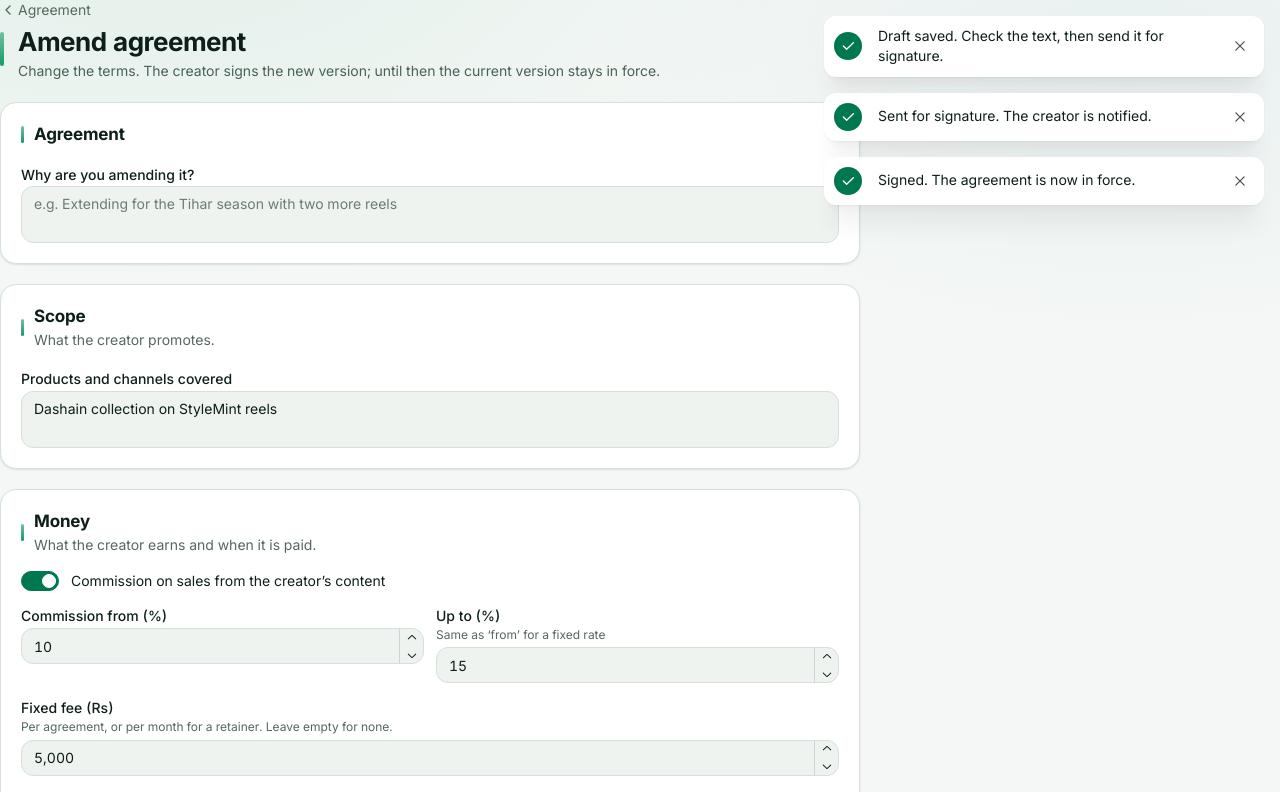
amend and terminate › amends only with a reason and after confirming; the amendment is a new version
The image size is (1280, 792).
Replace the text in the field labelled "Fixed fee (Rs)" with "8000" at (430, 758), box x1=21 y1=740 x2=839 y2=776
(page scrolled)
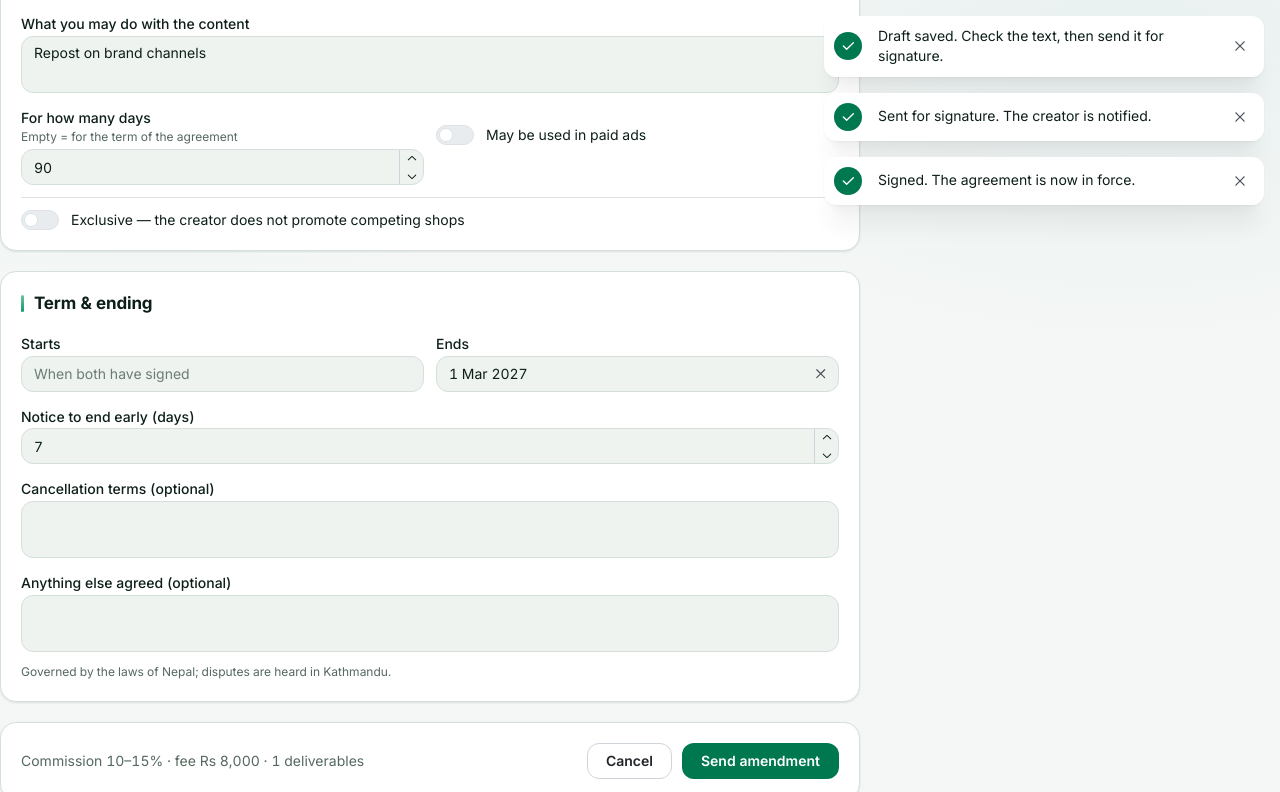
Click the button "Send amendment".
click(760, 761)  # box x1=682 y1=743 x2=839 y2=779
(page scrolled)
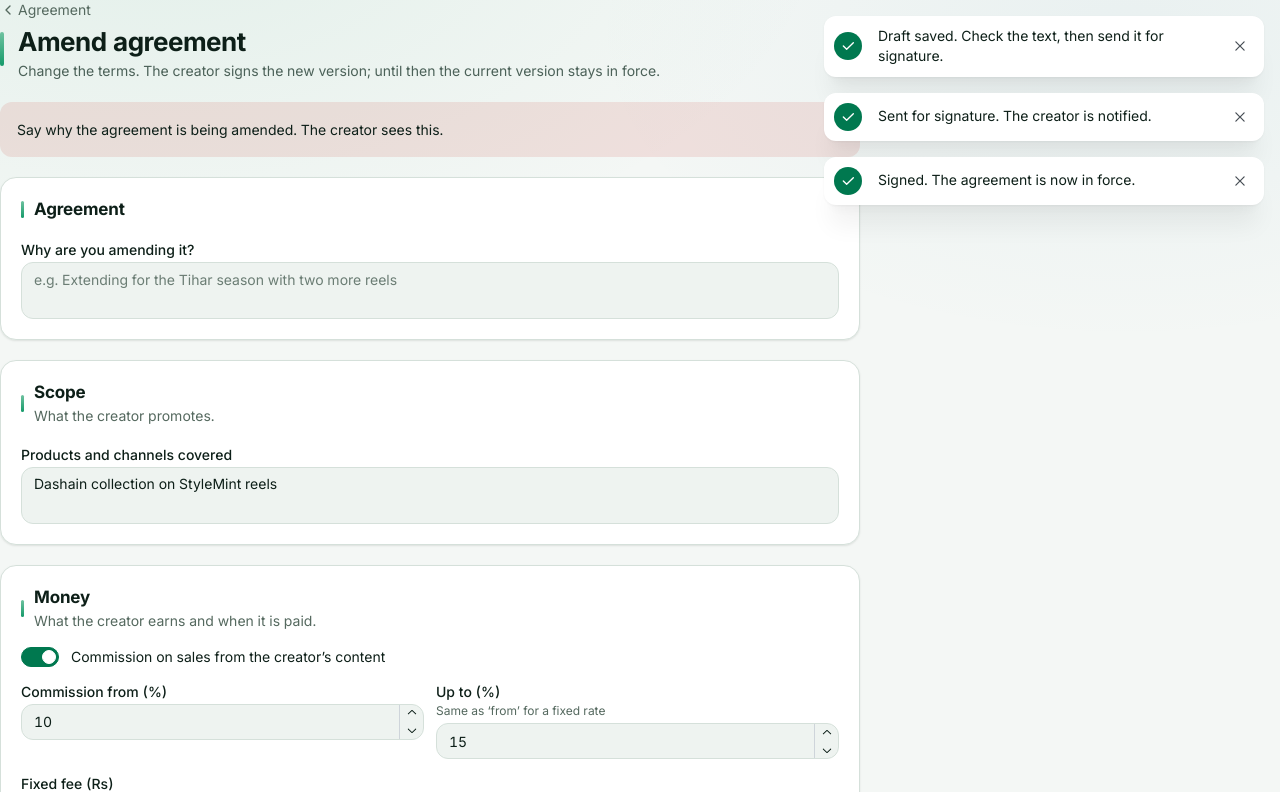
Check: the message with test id "editor-error" shows "why the agreement is being amended", box x1=17 y1=121 x2=443 y2=138
Type "Tihar extension" into the text box labelled "Why are you amending it?".
click(430, 290); type("Tihar extension")  # box x1=21 y1=262 x2=839 y2=319
(page scrolled)
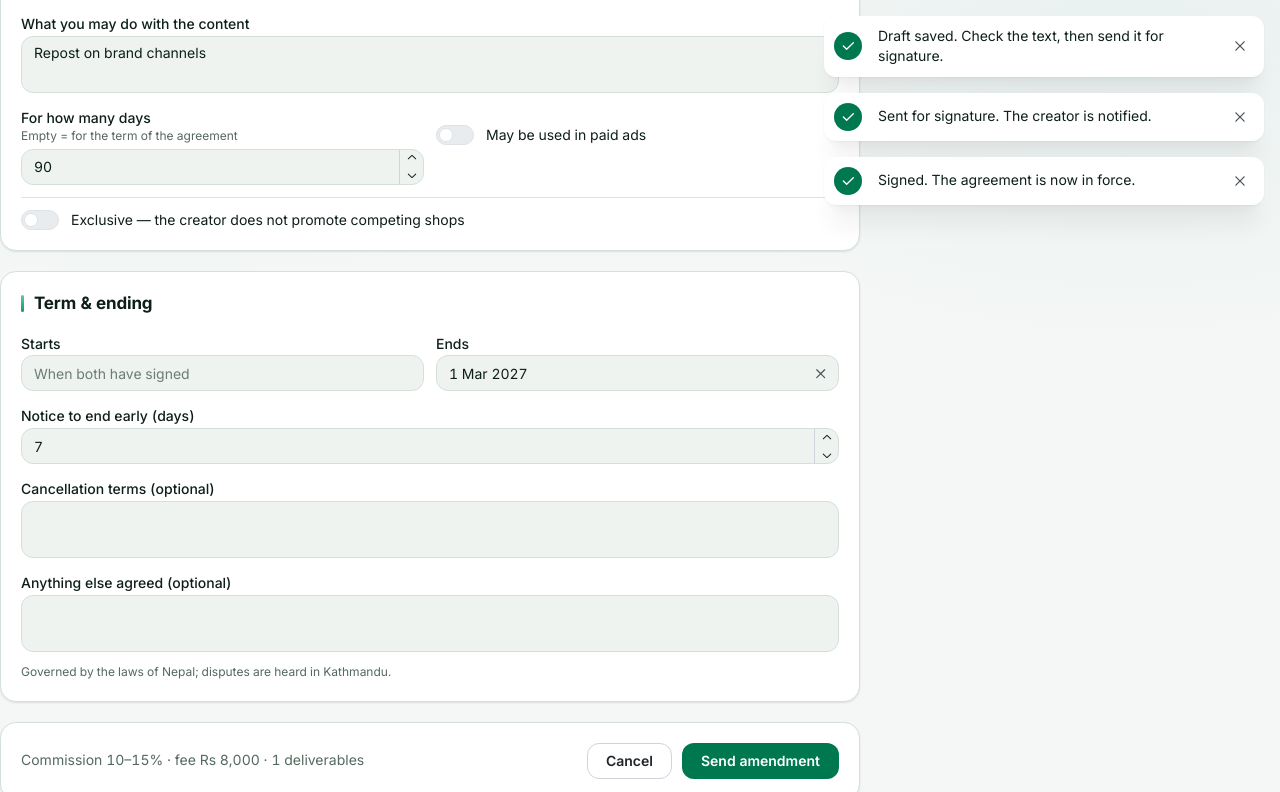
Click the button "Send amendment".
click(760, 760)  # box x1=682 y1=742 x2=839 y2=778
(page scrolled)
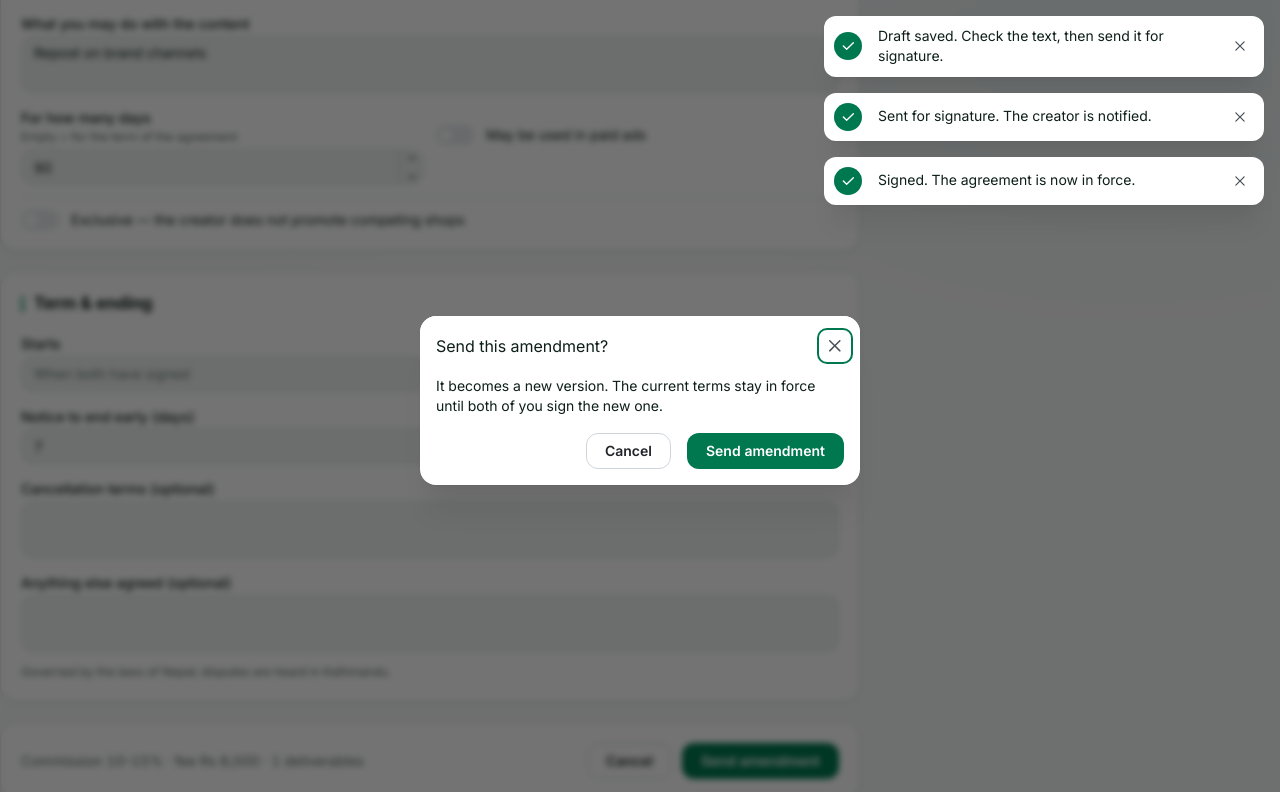
Click the button "Send amendment".
click(765, 450)  # box x1=687 y1=432 x2=844 y2=468
(page scrolled)
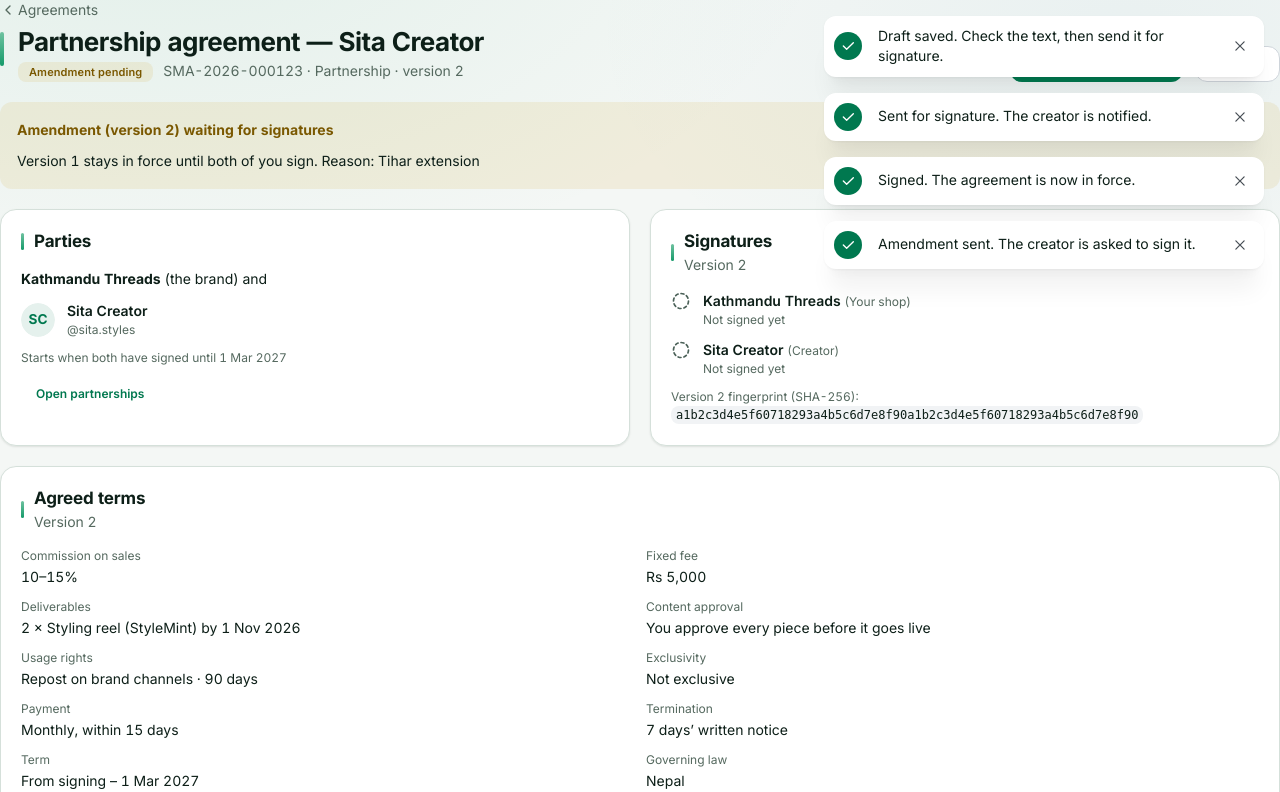
Check: the text "Amendment (version 2) waiting for signatures" is shown, box x1=17 y1=119 x2=334 y2=140
